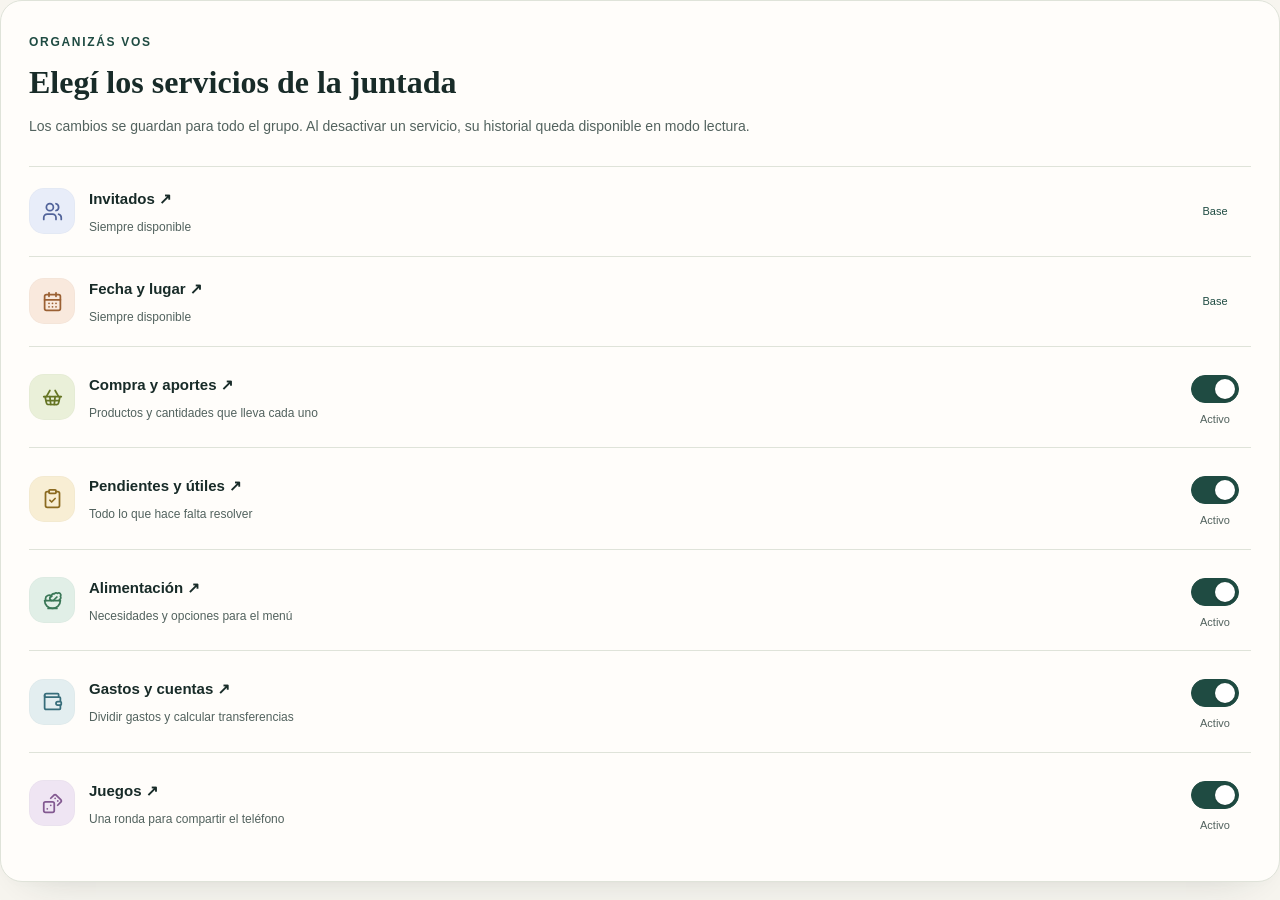
Test case: gestión de servicios › recupera el estado ante un fallo y permite reintentar
This screenshot has width=1280, height=900.
Click the switch named "Juegos" at (1215, 795), box 1191,781 -> 1239,809
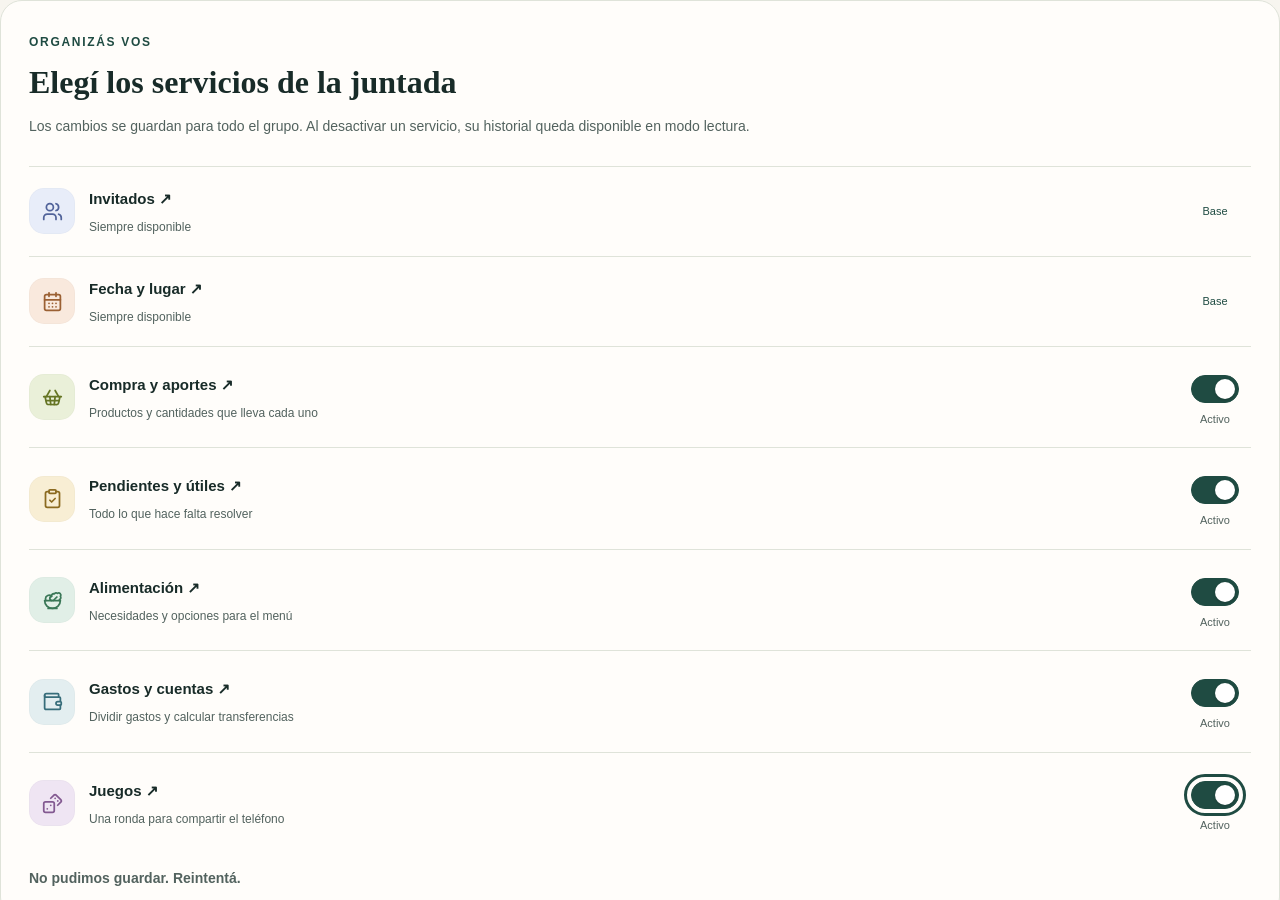
Expected: the message shows "No pudimos guardar", 29,870 -> 241,886
Click the switch named "Juegos" at (1215, 795), box 1191,781 -> 1239,809
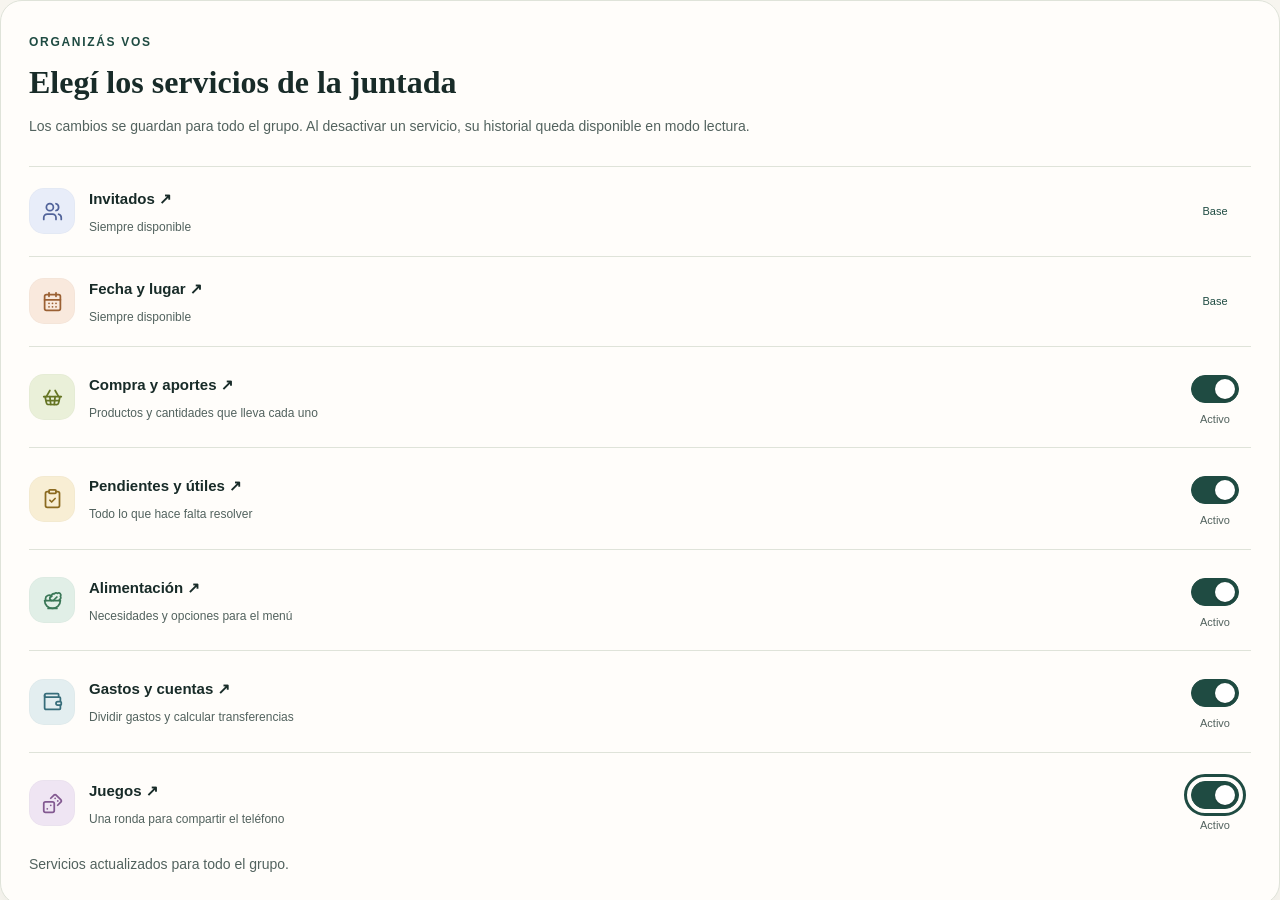
Expected: the message shows "Servicios actualizados", 29,856 -> 289,872
